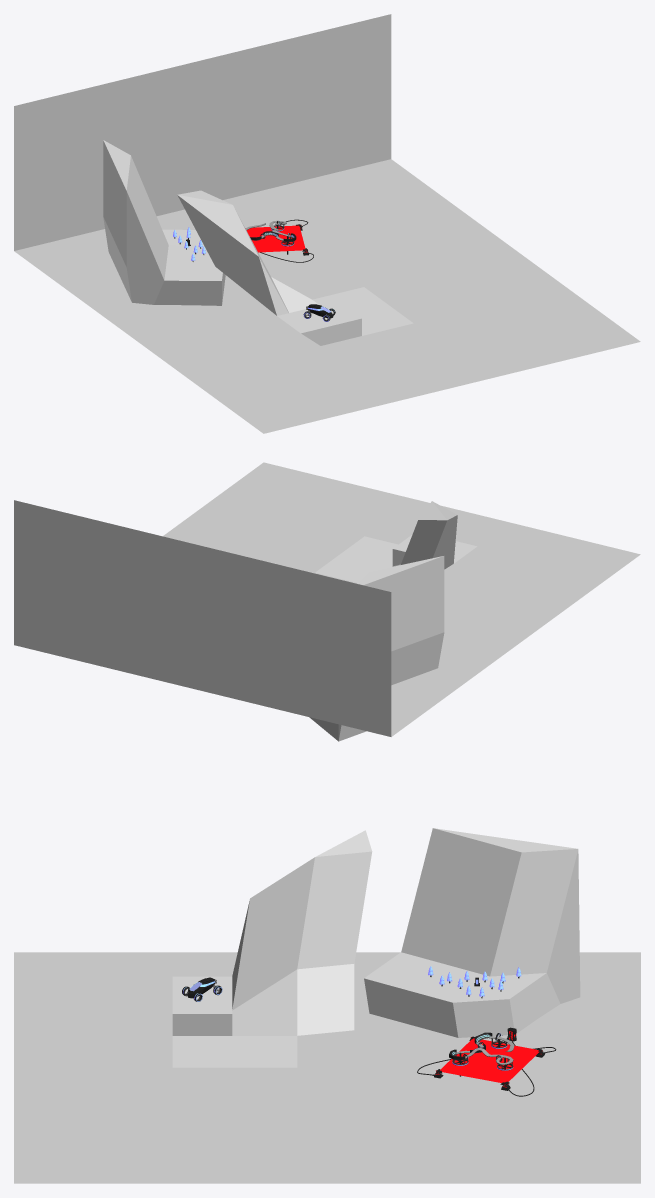
Rendered from StartScreenTerrainFinal.fbx.
The picture shows the model from 3 angles, top to bottom: view 1: azimuth 30°, elevation 25°; view 2: azimuth 150°, elevation 25°; view 3: azimuth 270°, elevation 25°; orthographic projection. The views are drawn at different scales.
Visible parts, largest first — view 1: BackGroundField, BackGroundCliff, FrontGround, FinalTrack; view 2: BackGroundField, BackGroundCliff, FrontGround; view 3: BackGroundField, BackGroundCliff, FrontGround, FinalTrack.
Part boxes in pixels (box(x1,y1,x2,y2)): BackGroundField: box(14, 14, 640, 433); BackGroundCliff: box(103, 140, 225, 305); FrontGround: box(177, 190, 413, 345); FinalTrack: box(245, 219, 313, 262); BackGroundField: box(14, 462, 640, 736); BackGroundCliff: box(309, 556, 444, 741); FrontGround: box(315, 501, 476, 582); BackGroundField: box(14, 952, 640, 1183); BackGroundCliff: box(364, 828, 580, 1037); FrontGround: box(172, 830, 372, 1067); FinalTrack: box(417, 1027, 556, 1096).
Size of the model in its own units: 78.26 by 36.85 by 89.7.
